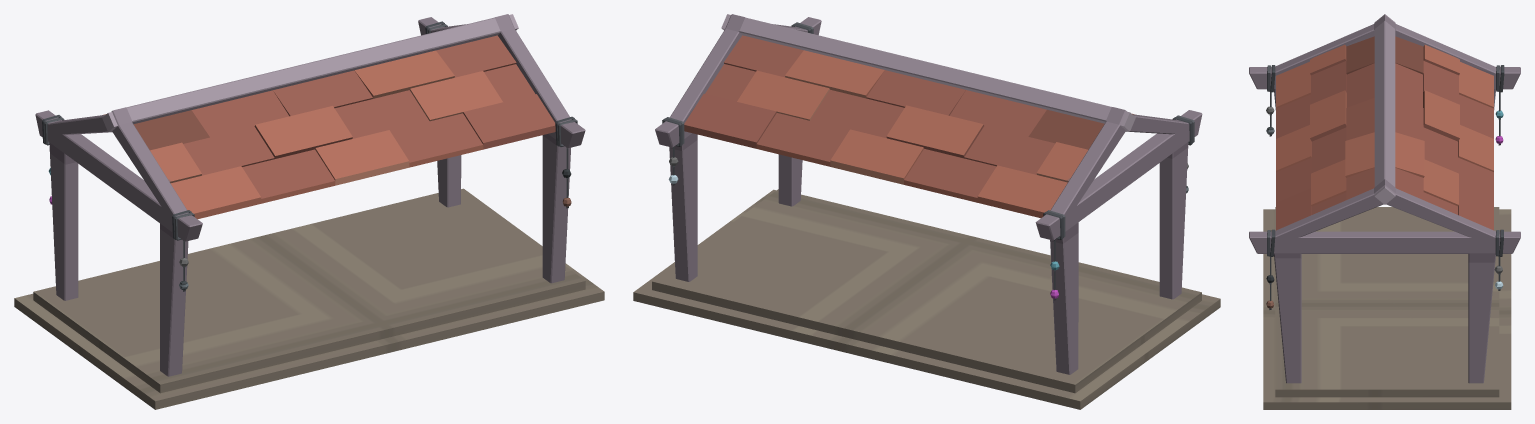
The model's file is Outside office.fbx.
3 renders of one model, left to right at view 1: azimuth 30°, elevation 25°; view 2: azimuth 150°, elevation 25°; view 3: azimuth 270°, elevation 25°, orthographic. The views are drawn at different scales.
Parts seen in each view (by area): view 1: Temple_outsideStructure; view 2: Temple_outsideStructure; view 3: Temple_outsideStructure.
Boxes of the visible parts, x1,y1,x2,y2 form: Temple_outsideStructure: (14, 14, 604, 409); Temple_outsideStructure: (633, 14, 1220, 409); Temple_outsideStructure: (1249, 14, 1520, 409).
Bounding box in the file's own units: 9.39 × 4.84 × 5.59.
Materials: 1 (1 with a texture image).
